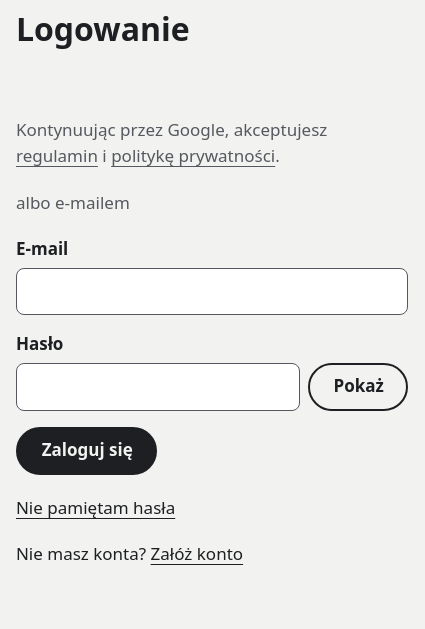
Test: login page › shows why the login failed
Type "ola@example.com" into the field labelled "E-mail".
click(212, 291); type("ola@example.com")  # box 16,268 -> 408,315
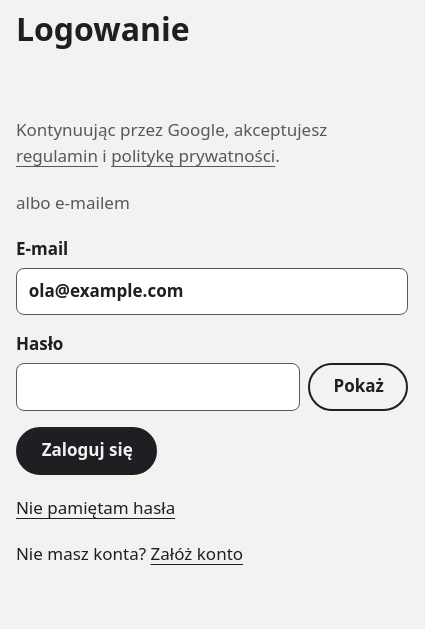
Type "dlugie-haslo-123" into the password field labelled "Hasło".
click(158, 387); type("dlugie-haslo-123")  # box 16,363 -> 300,411
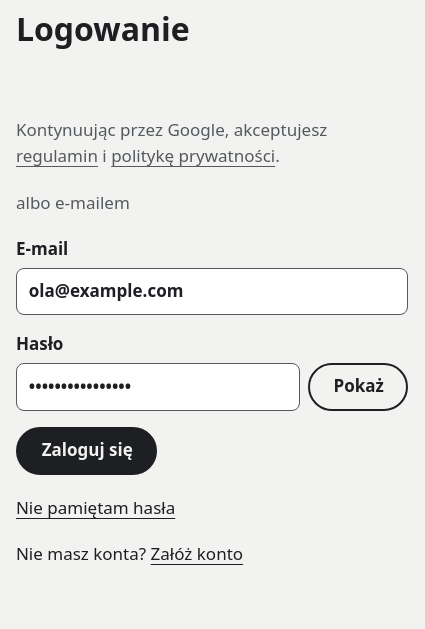
Submit the form, box 16,236 -> 408,475
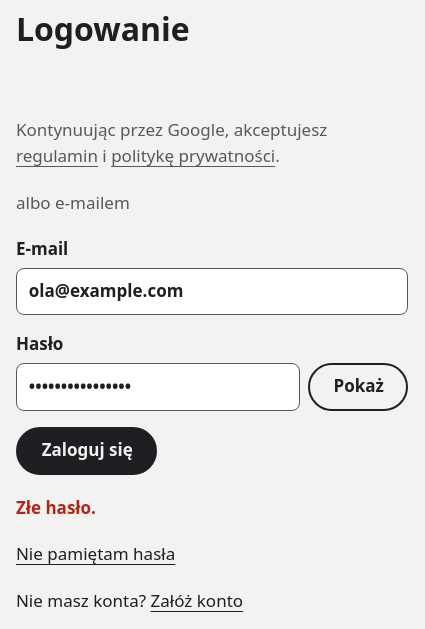
Expected: the message "Złe hasło." is shown, 16,496 -> 96,519
